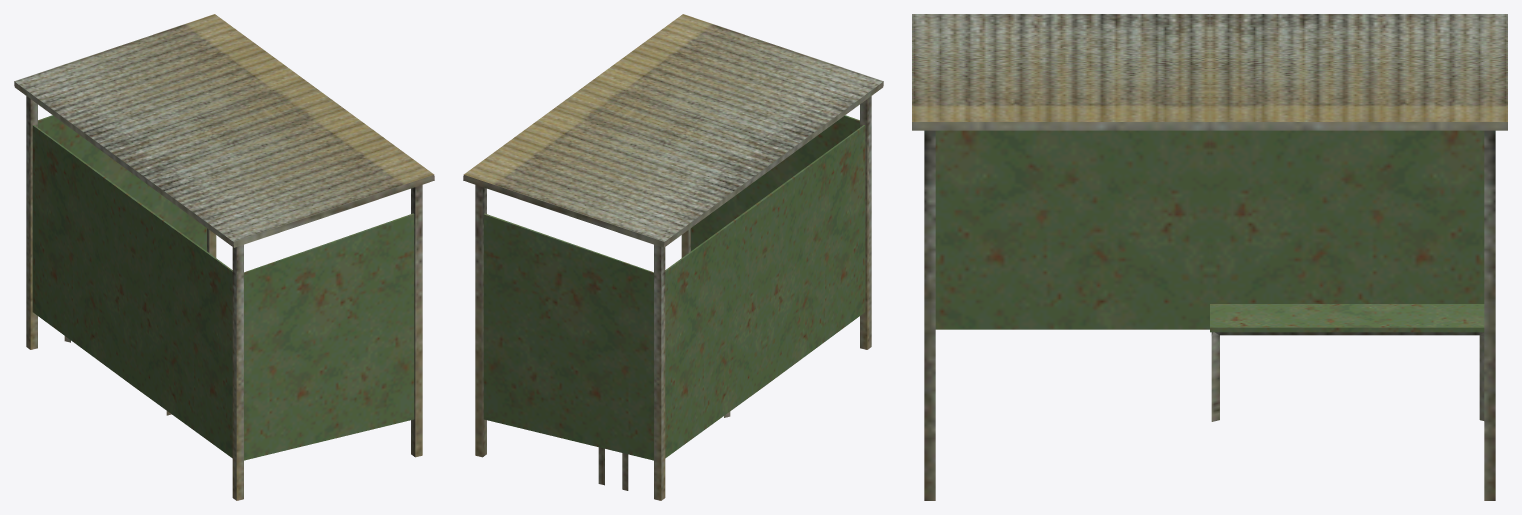
The model's file is Urban_BusstopAltCleanBench_Model.fbx.
3 renders of one model, left to right at view 1: azimuth 30°, elevation 25°; view 2: azimuth 150°, elevation 25°; view 3: azimuth 270°, elevation 25°, orthographic. The views are drawn at different scales.
Parts seen in each view (by area): view 1: Urban_BusstopAltCleanBench_Mesh; view 2: Urban_BusstopAltCleanBench_Mesh; view 3: Urban_BusstopAltCleanBench_Mesh.
Part boxes in pixels (x1,y1,x2,y2): Urban_BusstopAltCleanBench_Mesh: [14, 14, 434, 500]; Urban_BusstopAltCleanBench_Mesh: [463, 14, 883, 500]; Urban_BusstopAltCleanBench_Mesh: [912, 14, 1507, 500].
Bounding box in the file's own units: 2.26 × 3.03 × 4.26.
